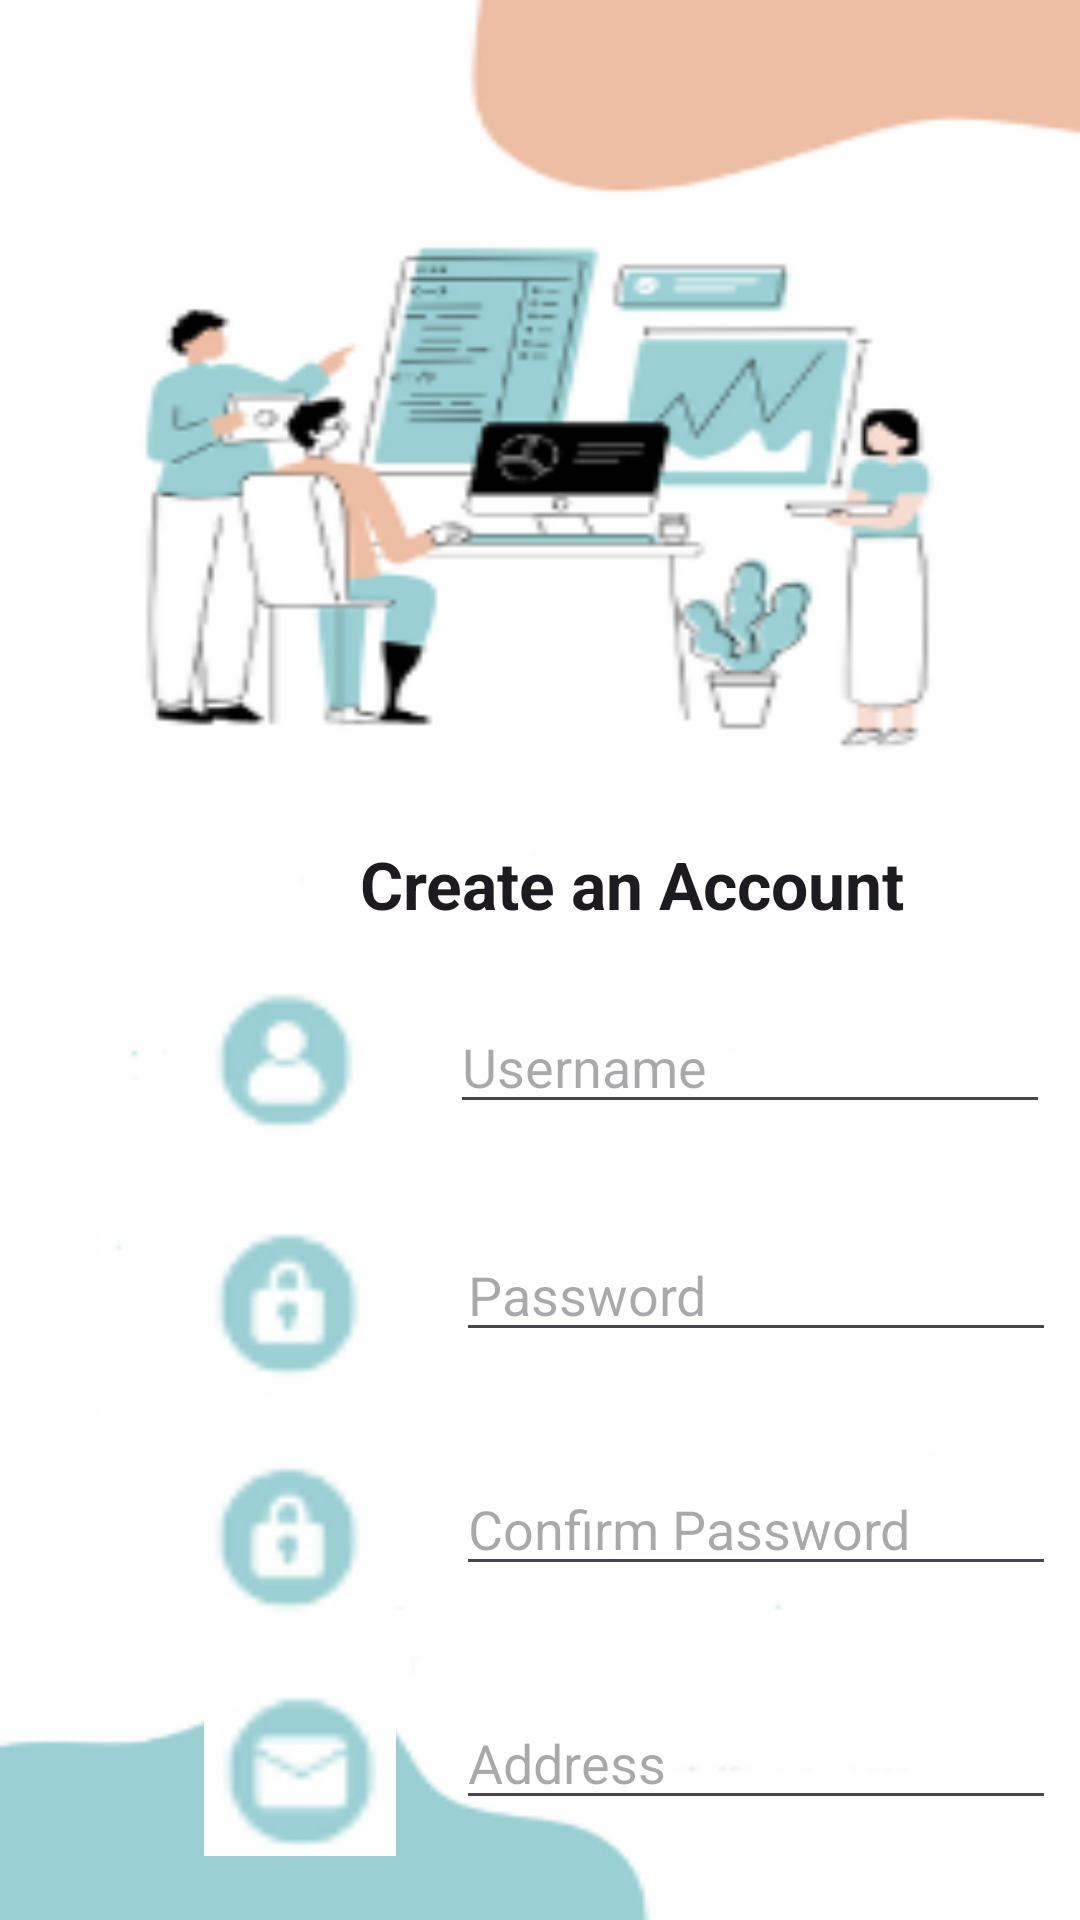

Named icons in this screenshot (1080px×1920px) and their centers, [x,y]:
email: [300,1771]
